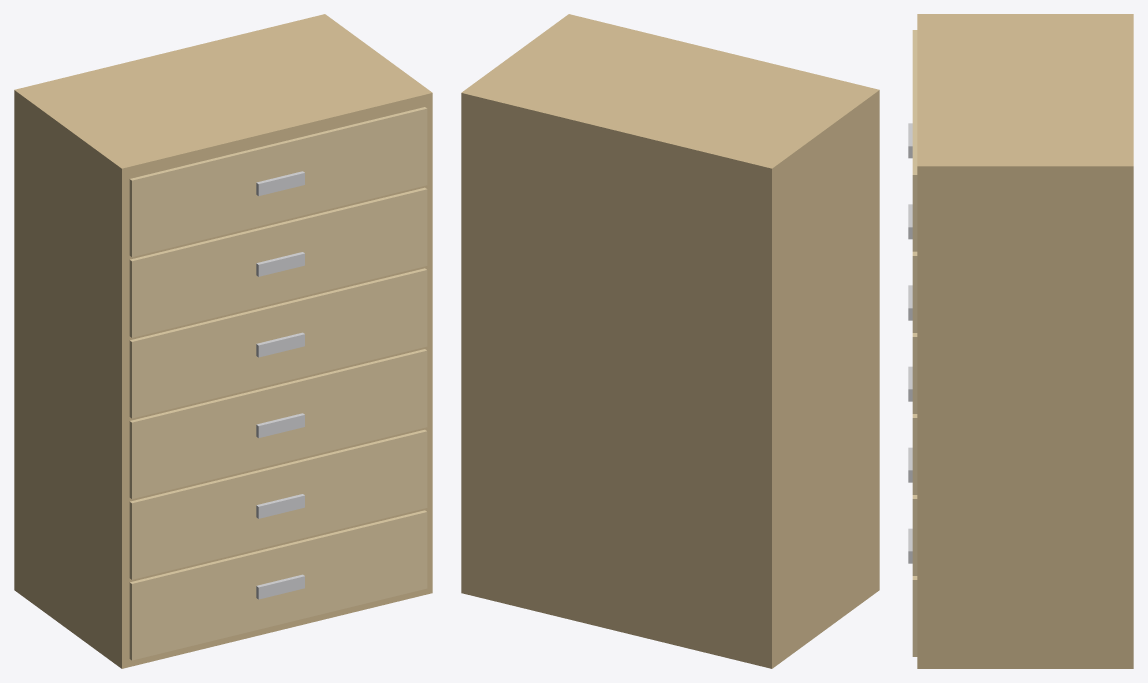
Rendered from ikea-malm-dresser.glb.
3 views of the same model, side by side, from view 1: azimuth 30°, elevation 25°; view 2: azimuth 150°, elevation 25°; view 3: azimuth 270°, elevation 25° (orthographic).
Bounding box in the file's own units: 0.8 × 1.23 × 0.5.
